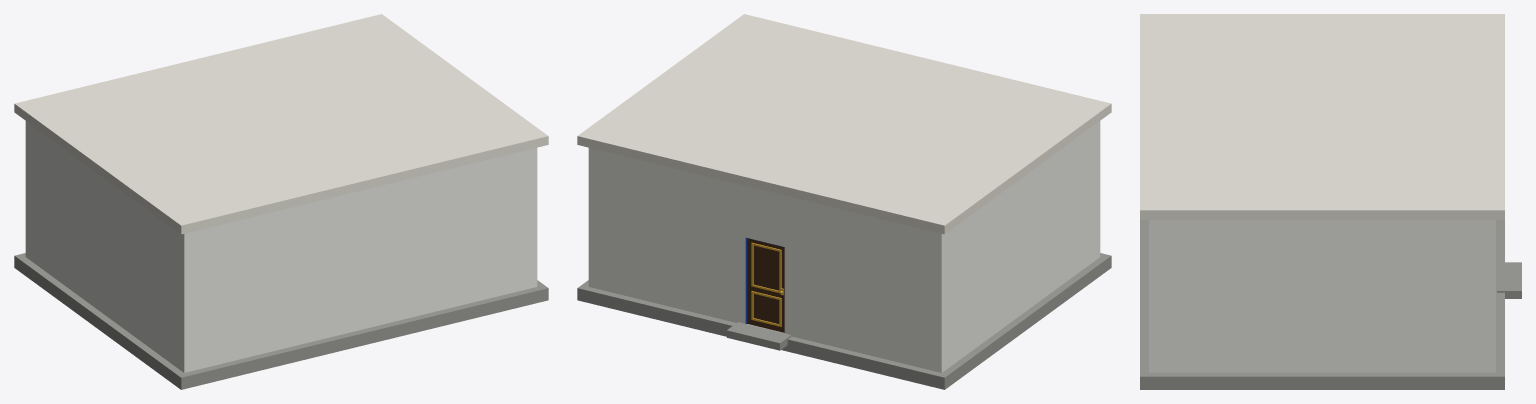
Rendered from SM_Interior_academy_crowler_office_Shell.fbx.
3 views of the same model, side by side, from view 1: azimuth 30°, elevation 25°; view 2: azimuth 150°, elevation 25°; view 3: azimuth 270°, elevation 25° (orthographic). The views are drawn at different scales.
Visible parts, largest first — view 1: SM_Interior_academy_crowler_office_Shell; view 2: SM_Interior_academy_crowler_office_Shell; view 3: SM_Interior_academy_crowler_office_Shell.
Part boxes in pixels (<box>): SM_Interior_academy_crowler_office_Shell: <box>14,14,548,389</box>; SM_Interior_academy_crowler_office_Shell: <box>577,14,1111,389</box>; SM_Interior_academy_crowler_office_Shell: <box>1140,14,1521,389</box>.
Bounding box in the file's own units: 9.36 × 4 × 7.7.
